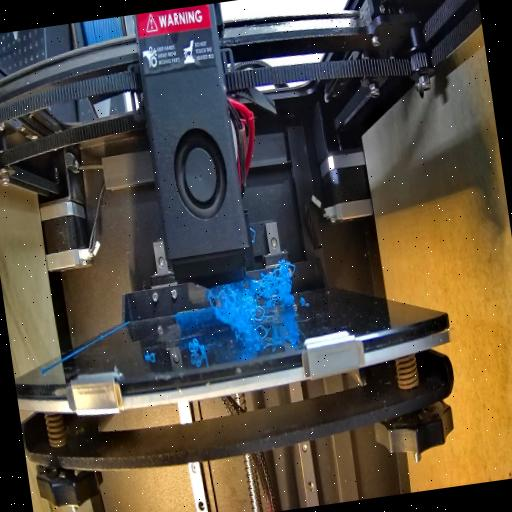spaghetti: (208, 270, 304, 330), (182, 334, 204, 354)
